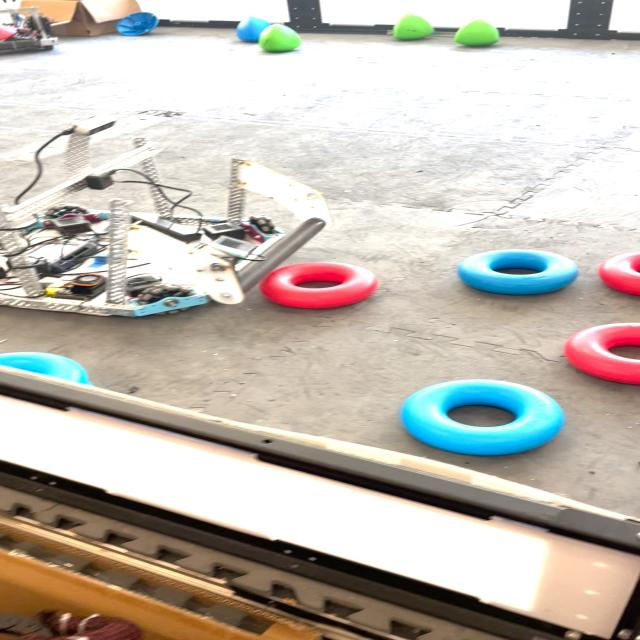Blue-Ring: (400, 379, 564, 455), (458, 249, 578, 295), (0, 352, 93, 385)
Red-Ring: (260, 261, 378, 309), (562, 322, 640, 384), (598, 251, 640, 295)
